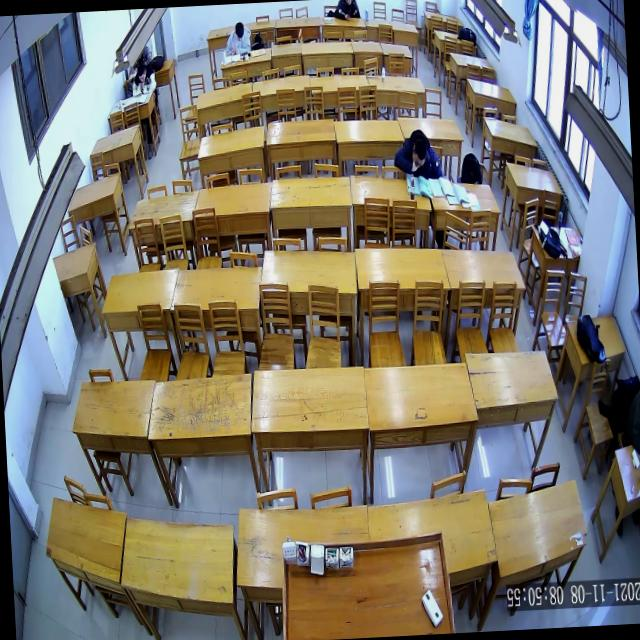bow: (392, 128, 443, 182), (130, 64, 157, 96)
down: (412, 139, 428, 168), (234, 22, 246, 42), (137, 64, 147, 84)
sit: (224, 22, 252, 56)
